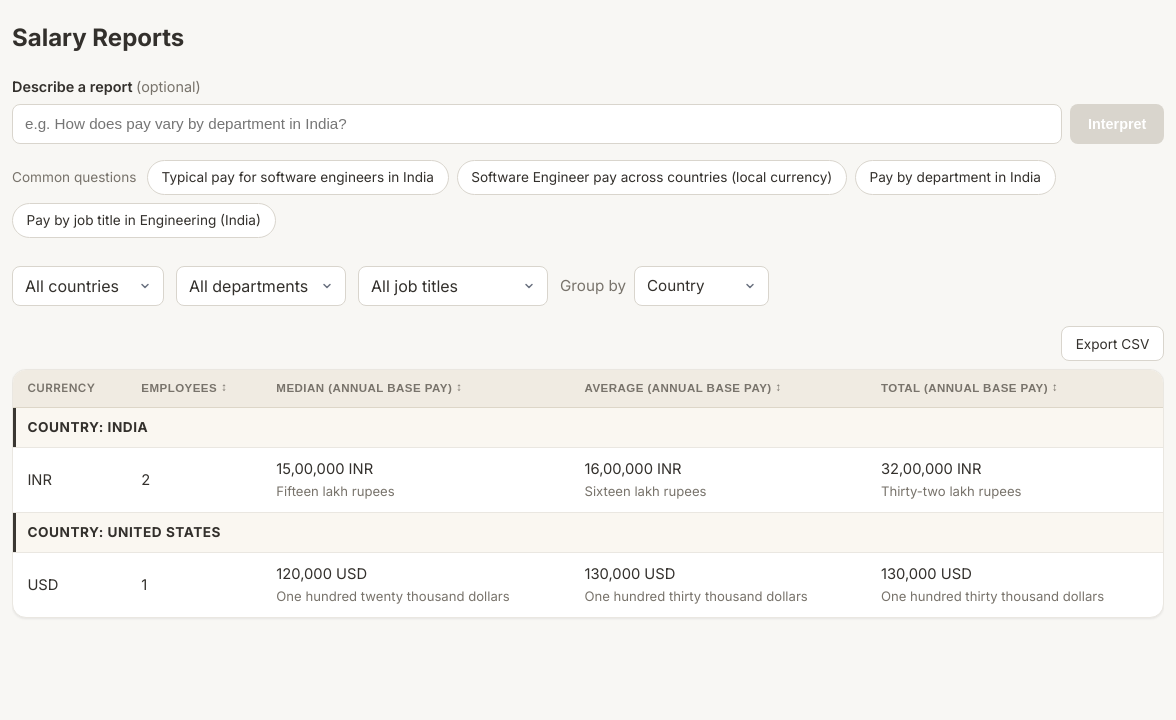
Test: ReportsPage › interprets "highest paid department" into a department ranking
In the field labelled "Describe a report (optional)": point(537, 124) 12,104 -> 1062,144, type "Give me the highest paid department"
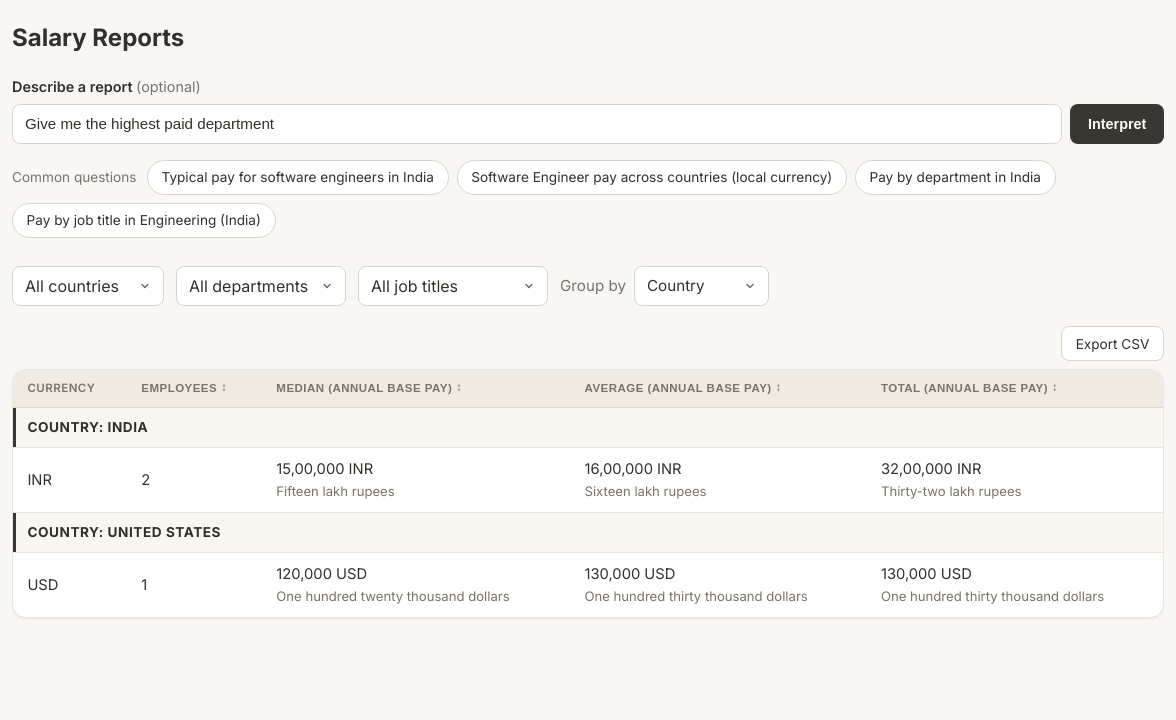
Click the button "Interpret": point(1117, 124) 1070,104 -> 1164,144
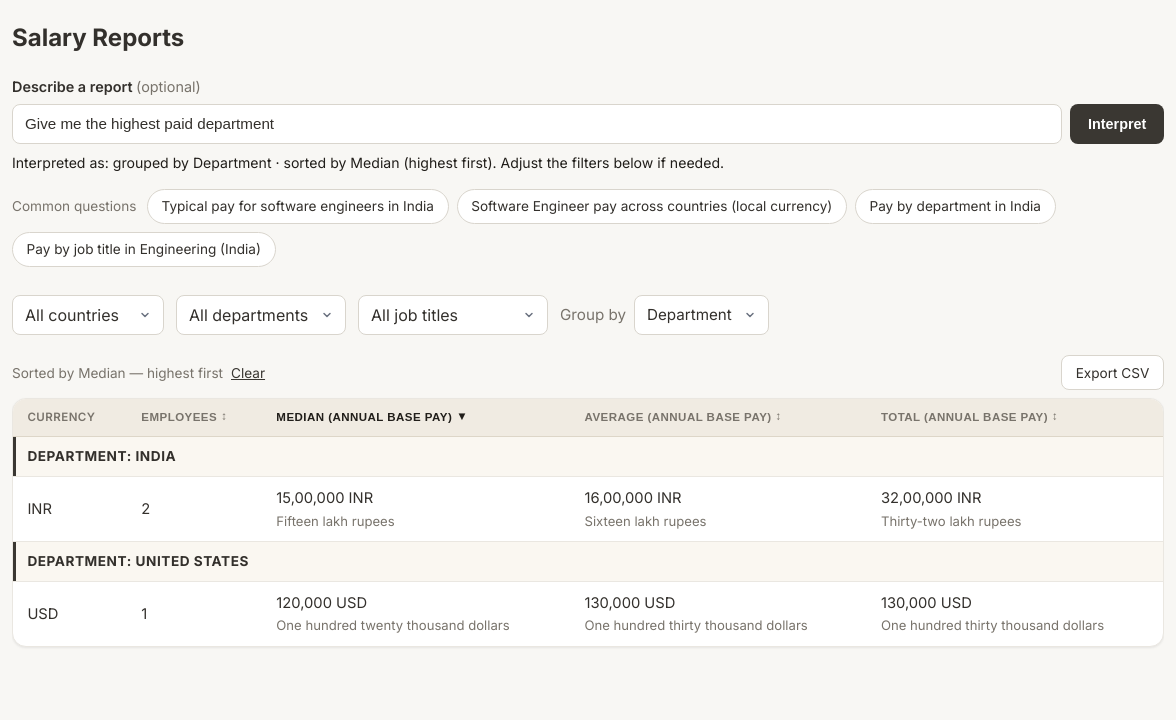
Result: the dropdown labelled "Group by" shows "Department" at 634,295 -> 769,335
Result: the text "Interpreted as" shows "sorted by Median" at 113,154 -> 493,171
